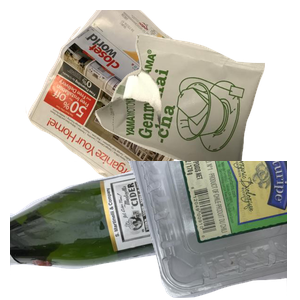glass: (10, 154, 246, 300)
paper: (23, 10, 245, 190)
plastic: (60, 161, 300, 300)
trash: (93, 31, 300, 205)
